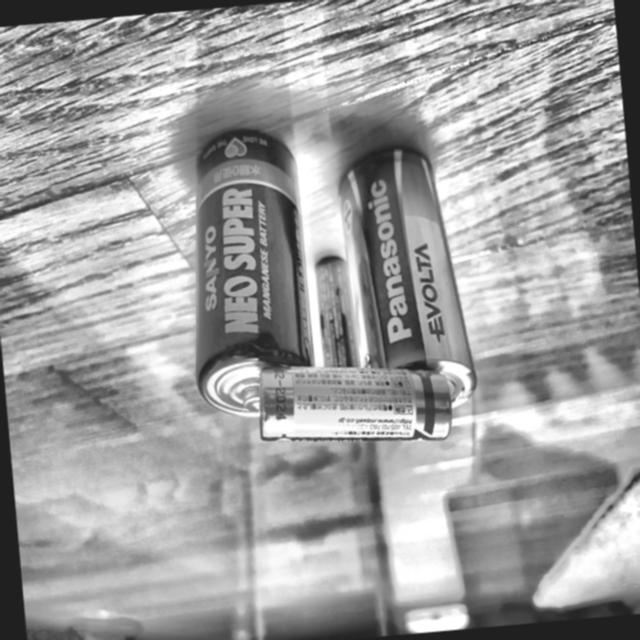drycell: (168, 119, 330, 431), (328, 138, 484, 424)
